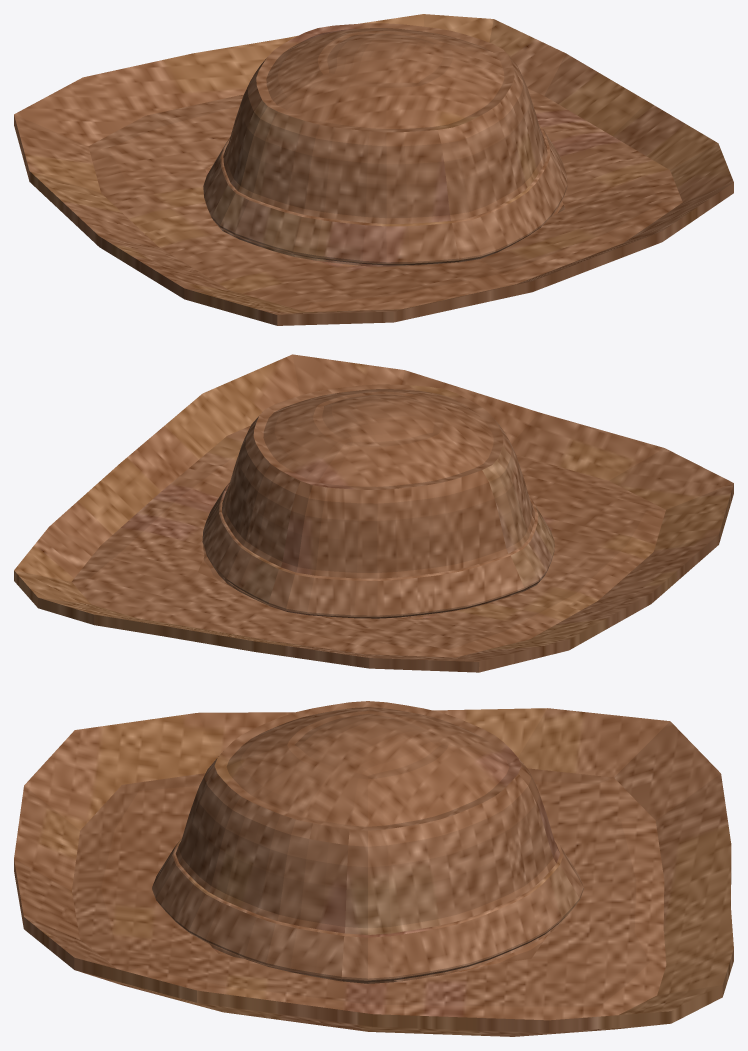
Rendered from Cap 01 .fbx.
3 views of the same model, one above another, from view 1: azimuth 30°, elevation 25°; view 2: azimuth 150°, elevation 25°; view 3: azimuth 270°, elevation 25° (orthographic). The views are drawn at different scales.
Visible parts, largest first — view 1: Cap; view 2: Cap; view 3: Cap.
Boxes of the visible parts, <box> form: Cap: <box>14,14,733,325</box>; Cap: <box>14,354,733,672</box>; Cap: <box>14,701,733,1036</box>.
Size of the model in its own units: 56.84 by 16.24 by 57.07.
Materials: 1 (1 with a texture image).
